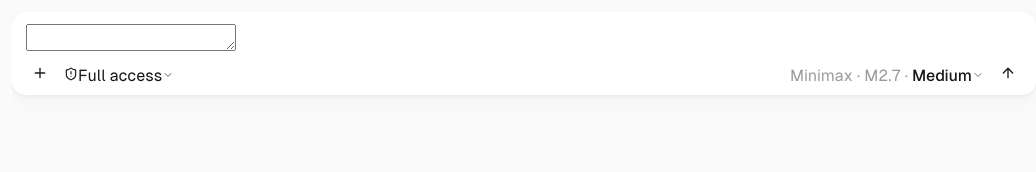
Test case: Composer › @ mid-sentence inserts an inline mention token
Type "see @App" into the text box named "message" at (131, 38), box top-left (26, 24), bottom-right (236, 51)
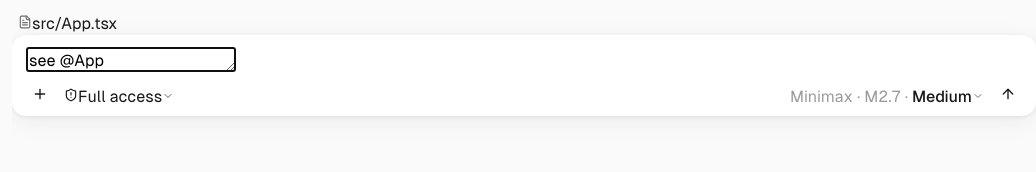
Click the option "src/App.tsx" at (68, 24), box top-left (12, 12), bottom-right (124, 35)
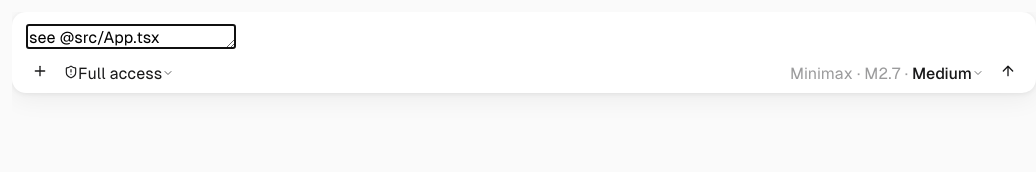
Expected: the text box named "message" holds "see @src/App.tsx ", top-left (26, 24), bottom-right (236, 49)
